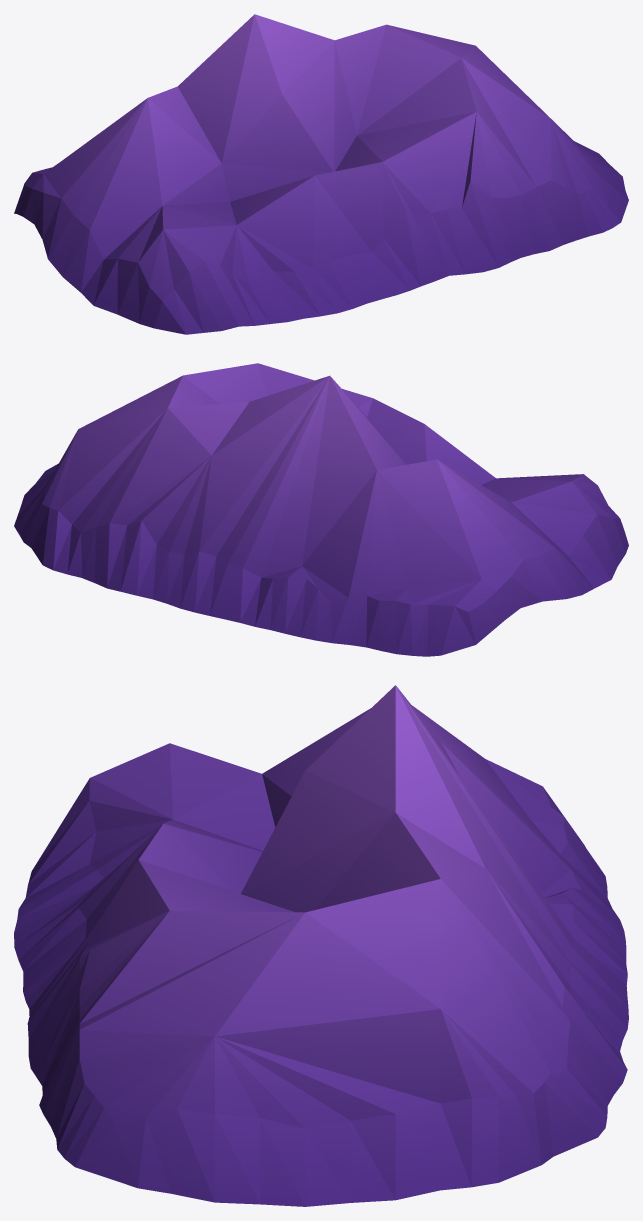
Rendered from Night_Mountain_005.FBX.
3 views of the same model, one above another, from view 1: azimuth 30°, elevation 25°; view 2: azimuth 150°, elevation 25°; view 3: azimuth 270°, elevation 25° (orthographic). The views are drawn at different scales.
Visible parts, largest first — view 1: Night_Mountain_005; view 2: Night_Mountain_005; view 3: Night_Mountain_005.
Part boxes in pixels (box(x1,y1,x2,y2)): Night_Mountain_005: box(14, 14, 628, 334); Night_Mountain_005: box(14, 363, 628, 656); Night_Mountain_005: box(14, 685, 628, 1206).
Bounding box in the file's own units: 4628 × 1620 × 3058.
Materials: 1 (1 with a texture image).
